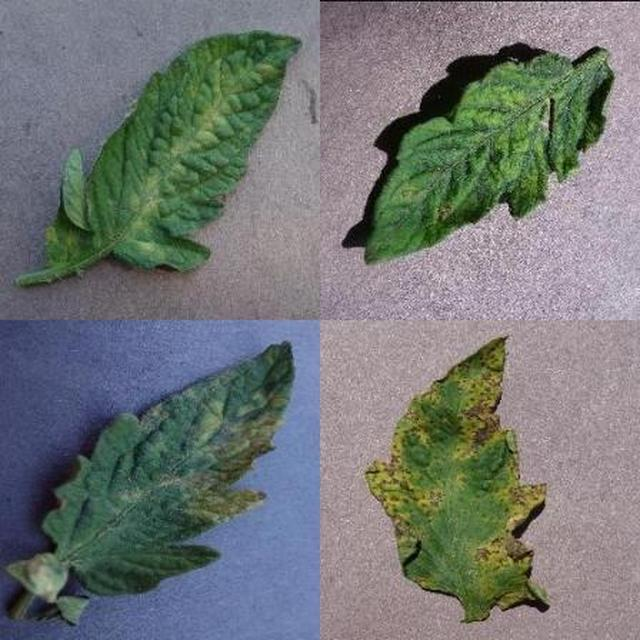Leaf Mold: (243, 214, 640, 640)
